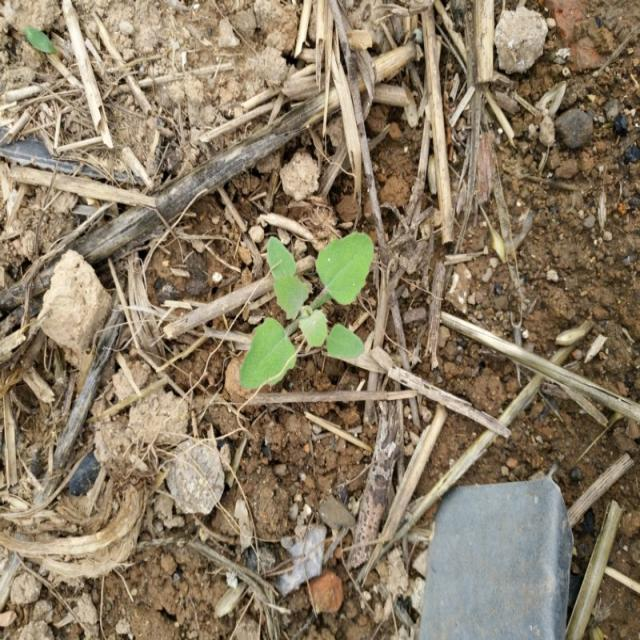ca: (240, 236, 372, 394)
